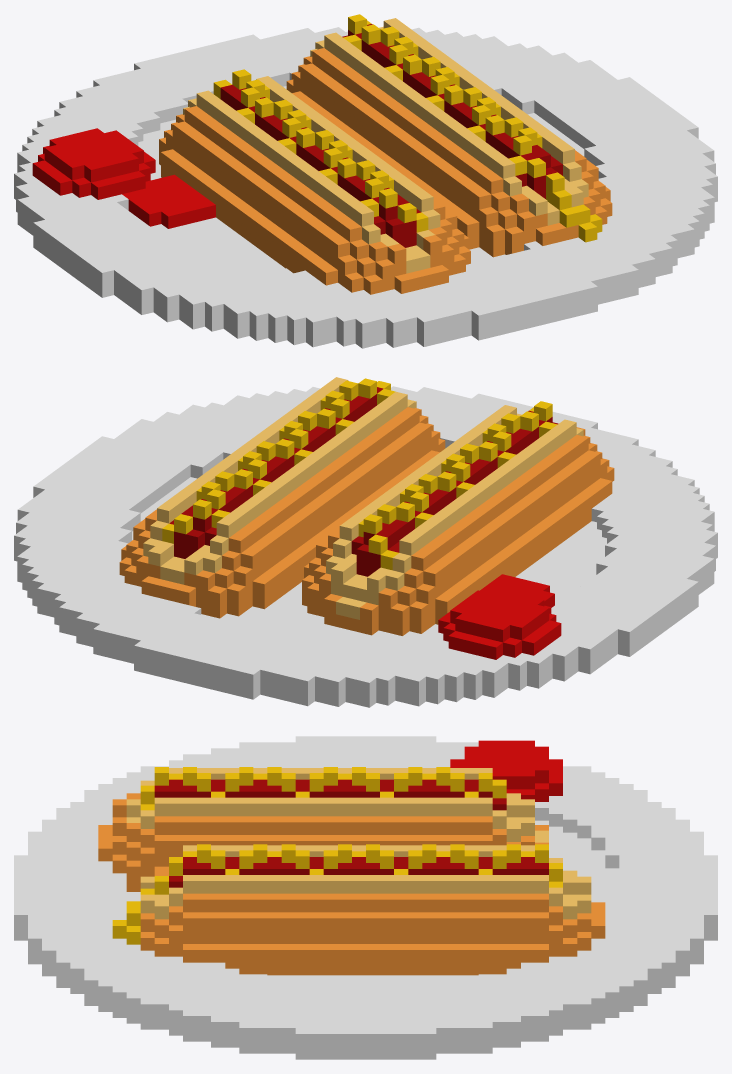
Rendered from HotDog.fbx.
3 renders of one model, top to bottom at view 1: azimuth 30°, elevation 25°; view 2: azimuth 150°, elevation 25°; view 3: azimuth 270°, elevation 25°, orthographic. The views are drawn at different scales.
Parts seen in each view (by area): view 1: Polygon; view 2: Polygon; view 3: Polygon.
Boxes of the visible parts, x1,y1,x2,y2 form: Polygon: (14,14,717,348); Polygon: (14,377,717,707); Polygon: (14,736,717,1059).
Size of the model in its own units: 5 by 0.9 by 5.
1 material, 1 textured.
